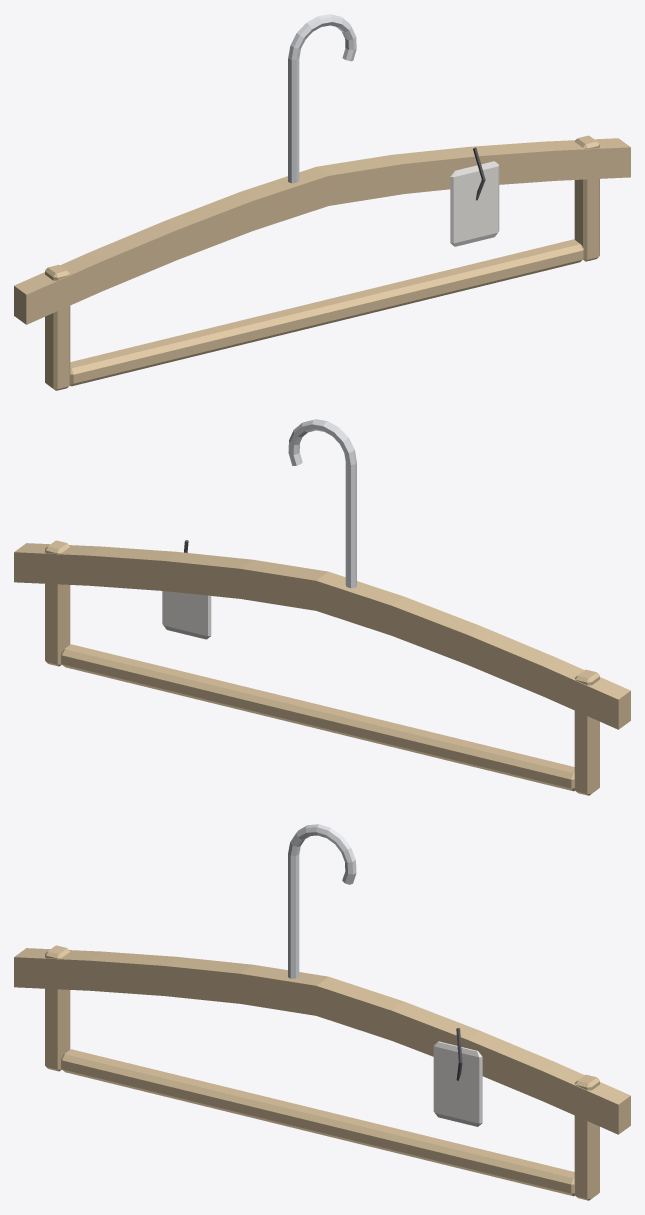
Rendered from clothing-rail-and-wardrobe-wooden-hanger-empty-c055f3a1__35459.glb.
The picture shows the model from 3 angles, top to bottom: view 1: azimuth 30°, elevation 25°; view 2: azimuth 150°, elevation 25°; view 3: azimuth 330°, elevation 25°; orthographic projection.
Parts seen in each view (by area): view 1: wooden-hanger-empty; view 2: wooden-hanger-empty; view 3: wooden-hanger-empty.
Boxes of the visible parts, left/top/right/bottom form: wooden-hanger-empty: left=14, top=14, right=630, bottom=390; wooden-hanger-empty: left=14, top=419, right=630, bottom=795; wooden-hanger-empty: left=14, top=824, right=630, bottom=1200.
Size of the model in its own units: 0.42 by 0.2033 by 0.0225.
